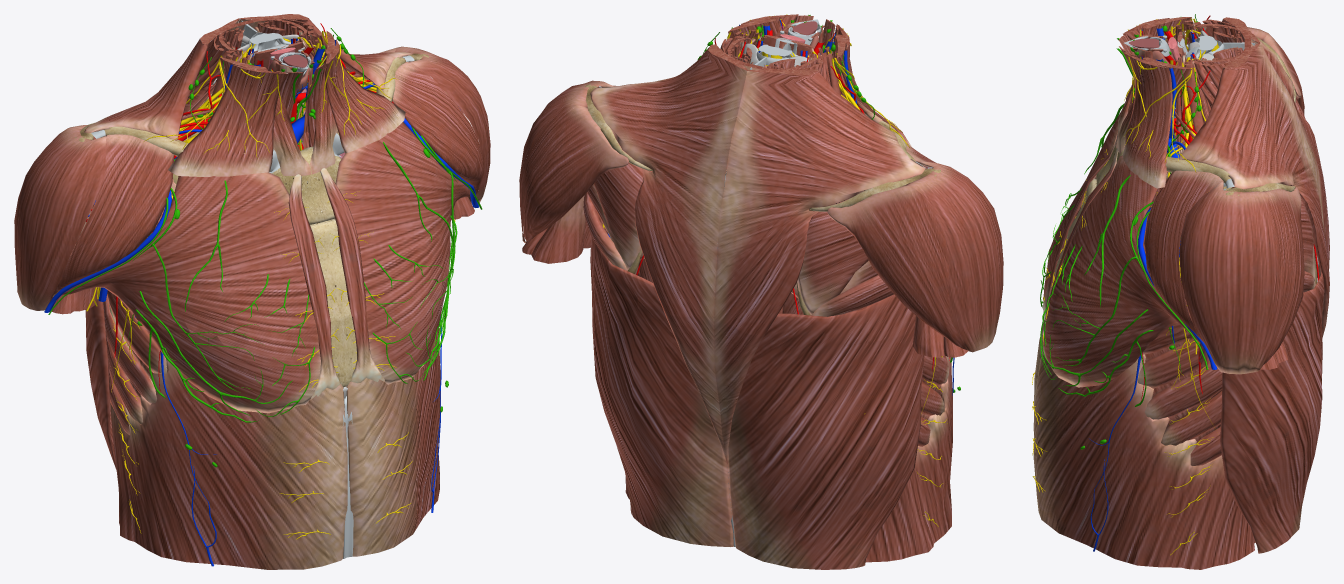
File: body.gltf
3 renders of one model, left to right at view 1: azimuth 30°, elevation 25°; view 2: azimuth 150°, elevation 25°; view 3: azimuth 270°, elevation 25°, orthographic. The views are drawn at different scales.
Visible parts, largest first — view 1: 右侧腹外斜肌right obliquus extemus abdominis, 右侧胸大肌right pectoralis major, 左侧胸大肌left pectoralis major, 右侧三角肌right deltoid3, 左侧腹外斜肌left obliquus extemus abdominis, 右侧三角肌right deltoid2, 右侧颈阔肌right platysma, 右侧前锯肌right serratus anterior, 左侧颈阔肌left platysma, 右侧斜方肌right trapezius, 左侧胸骨肌left sternalis, 胸骨体body of sternum (+16 smaller); view 2: 右侧背阔肌right latissimus dorsi, 右侧斜方肌right trapezius, 右侧斜方肌right trapezius1, 左侧背阔肌left latissimus dorsi, 右侧三角肌right deltoid3, 右侧三角肌right deltoid2, 右侧腹外斜肌right obliquus extemus abdominis, 右侧冈下肌right infraspinatus, 左侧冈下肌left infraspinatus, 左侧肱三头肌left triceps brachii1, 右侧前锯肌right serratus anterior, 右侧大圆肌right teres major (+5 smaller); view 3: 左侧腹外斜肌left obliquus extemus abdominis, 右侧三角肌right deltoid2, 左侧背阔肌left latissimus dorsi, 左侧胸大肌left pectoralis major, 右侧斜方肌right trapezius1, 左侧前锯肌left serratus anterior, 左侧颈阔肌left platysma, 右侧斜方肌right trapezius, pasted__左侧腋前淋巴管left anterior axillary vessel, 右侧胸大肌right pectoralis major, 右侧胸骨肌right sternalis, 右侧胸锁乳突肌right sternocleidomastoid (+16 smaller).
Part boxes in pixels (x1,y1,x2,y2): 右侧腹外斜肌right obliquus extemus abdominis: [110, 359, 347, 569]; 右侧胸大肌right pectoralis major: [52, 172, 320, 413]; 左侧胸大肌left pectoralis major: [335, 122, 470, 384]; 右侧三角肌right deltoid3: [14, 124, 173, 310]; 左侧腹外斜肌left obliquus extemus abdominis: [346, 325, 440, 556]; 右侧三角肌right deltoid2: [379, 46, 490, 205]; 右侧颈阔肌right platysma: [168, 65, 288, 176]; 右侧前锯肌right serratus anterior: [103, 137, 191, 435]; 左侧颈阔肌left platysma: [325, 40, 405, 153]; 右侧斜方肌right trapezius: [84, 18, 239, 140]; 左侧胸骨肌left sternalis: [320, 168, 385, 383]; 胸骨体body of sternum: [310, 219, 356, 386]; 右侧背阔肌right latissimus dorsi: [727, 294, 924, 569]; 右侧斜方肌right trapezius: [714, 69, 925, 464]; 右侧斜方肌right trapezius1: [590, 44, 747, 462]; 左侧背阔肌left latissimus dorsi: [590, 209, 733, 546]; 右侧三角肌right deltoid3: [827, 144, 1003, 352]; 右侧三角肌right deltoid2: [519, 80, 628, 243]; 右侧腹外斜肌right obliquus extemus abdominis: [865, 356, 952, 562]; 右侧冈下肌right infraspinatus: [797, 211, 868, 314]; 左侧冈下肌left infraspinatus: [594, 162, 652, 270]; 左侧肱三头肌left triceps brachii1: [522, 195, 585, 263]; 右侧前锯肌right serratus anterior: [856, 307, 949, 446]; 右侧大圆肌right teres major: [811, 275, 893, 316]; 左侧腹外斜肌left obliquus extemus abdominis: [1033, 348, 1254, 569]; 右侧三角肌right deltoid2: [1143, 170, 1304, 374]; 左侧背阔肌left latissimus dorsi: [1220, 271, 1324, 553]; 左侧胸大肌left pectoralis major: [1043, 155, 1200, 387]; 右侧斜方肌right trapezius1: [1179, 43, 1329, 337]; 左侧前锯肌left serratus anterior: [1138, 257, 1222, 465]; 左侧颈阔肌left platysma: [1122, 52, 1172, 188]; 右侧斜方肌right trapezius: [1222, 17, 1329, 268]; pasted__左侧腋前淋巴管left anterior axillary vessel: [1040, 201, 1181, 406]; 右侧胸大肌right pectoralis major: [1043, 110, 1121, 303]; 右侧胸骨肌right sternalis: [1042, 140, 1116, 317]; 右侧胸锁乳突肌right sternocleidomastoid: [1115, 17, 1191, 143].
Size of the model in its own units: 0.2188 by 0.2094 by 0.1242.
